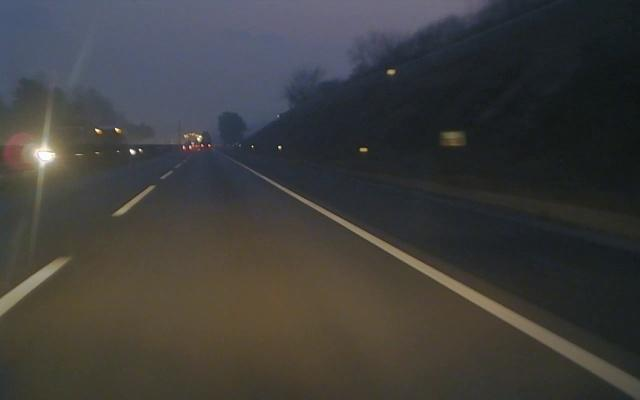lane: (241, 165, 640, 398), (0, 159, 191, 319)
